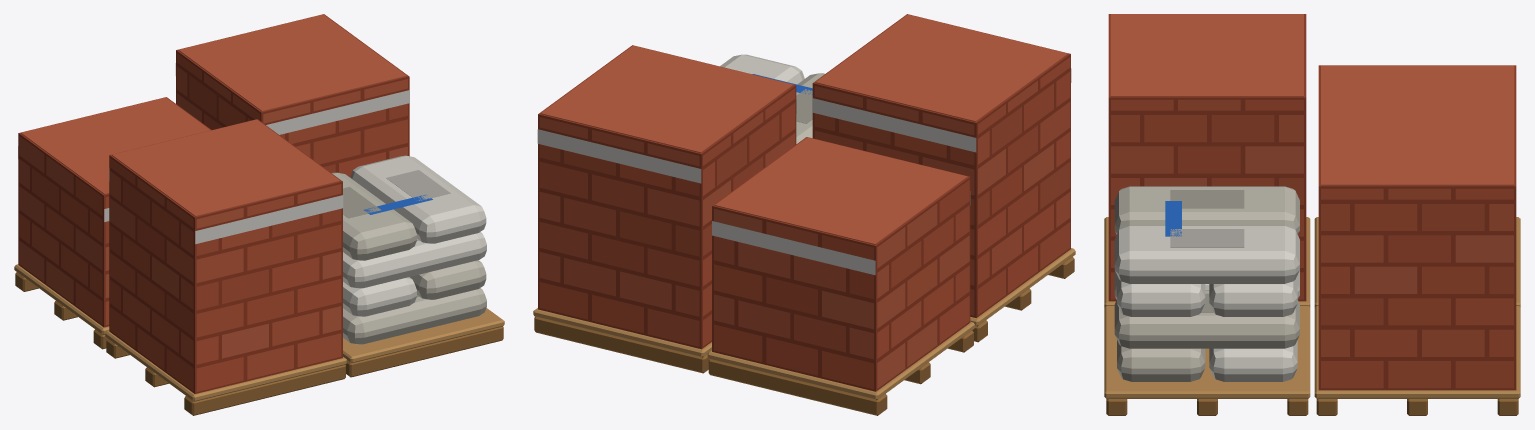
Rendered from site-block.glb.
3 views of the same model, side by side, from view 1: azimuth 30°, elevation 25°; view 2: azimuth 150°, elevation 25°; view 3: azimuth 270°, elevation 25° (orthographic). The views are drawn at different scales.
Parts seen in each view (by area): view 1: site-block; view 2: site-block; view 3: site-block.
Boxes of the visible parts, x1=… form: site-block: x1=14, y1=14, x2=504, y2=415; site-block: x1=533, y1=14, x2=1075, y2=415; site-block: x1=1104, y1=14, x2=1520, y2=415.
Size of the model in its own units: 1.98 by 1.2 by 1.98.
